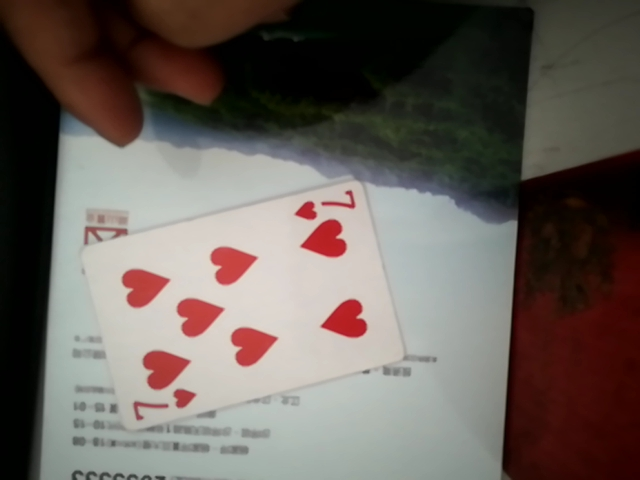hx 7: (88, 185, 406, 427)
